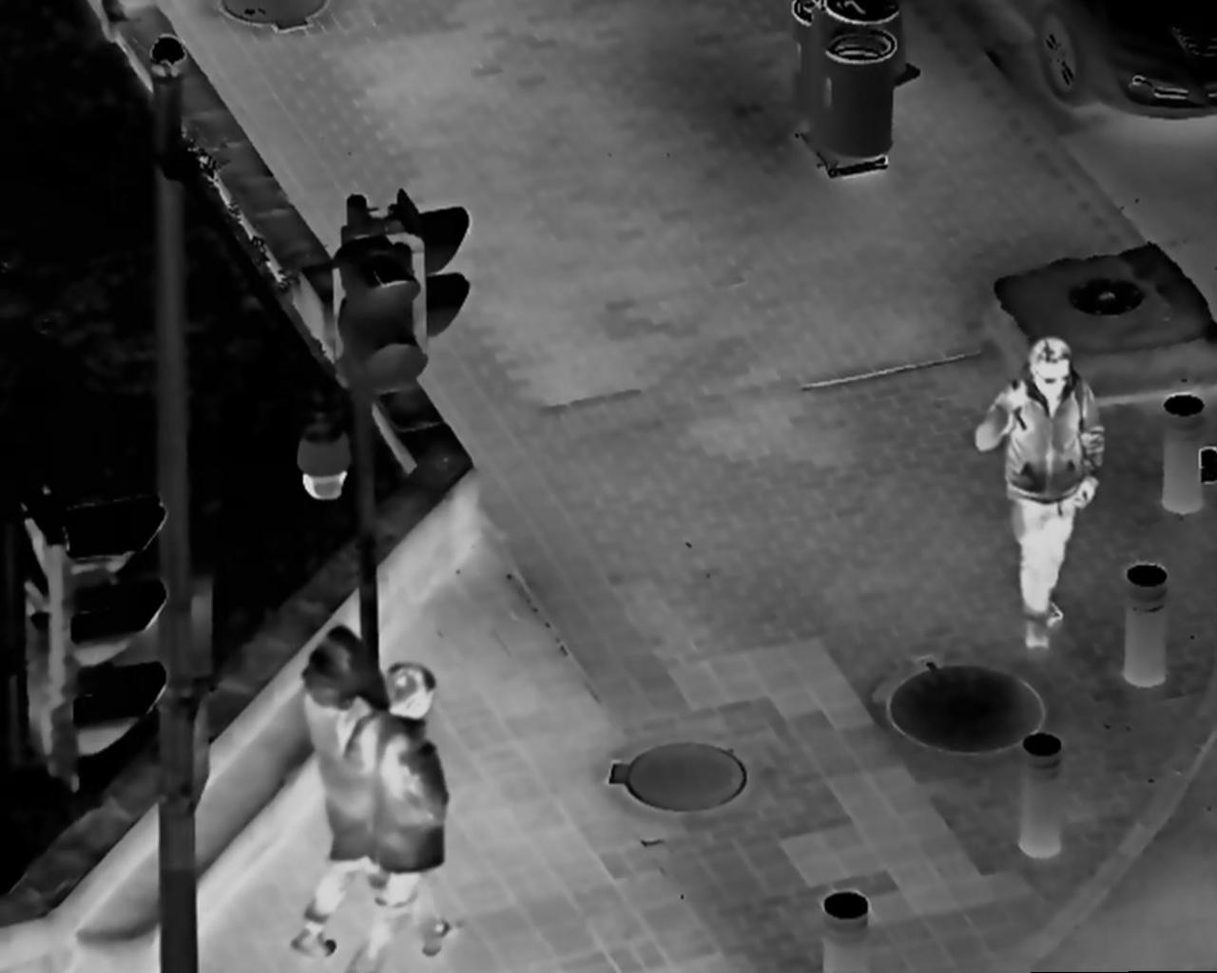person: (975, 333, 1111, 664), (281, 620, 392, 953), (352, 660, 460, 968)
